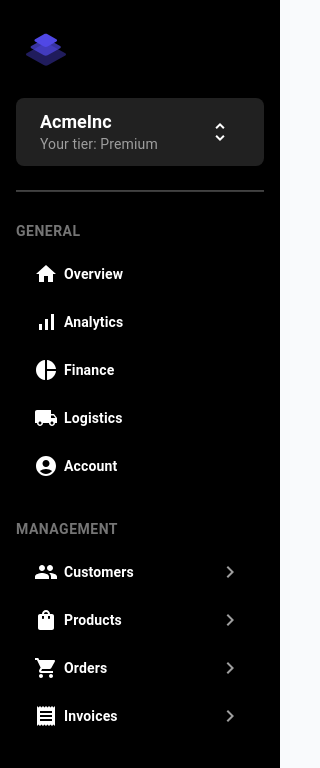
Scenario: SideBar component › should toggle submenu after click button
The image size is (320, 768).
Step 1. Click the menu item "Customers" → (99, 572), box [38,560,242,584]
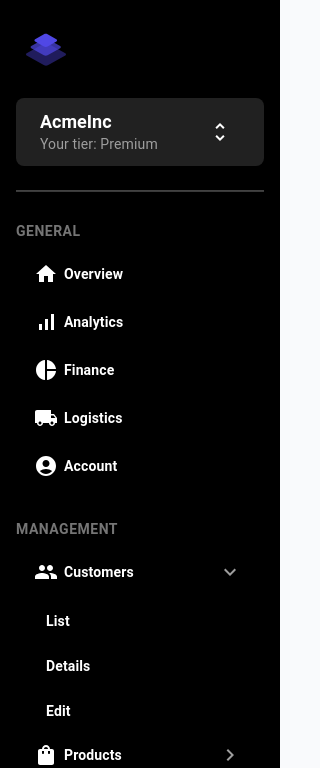
expect the menu is shown: met, box [46,613,90,719]
